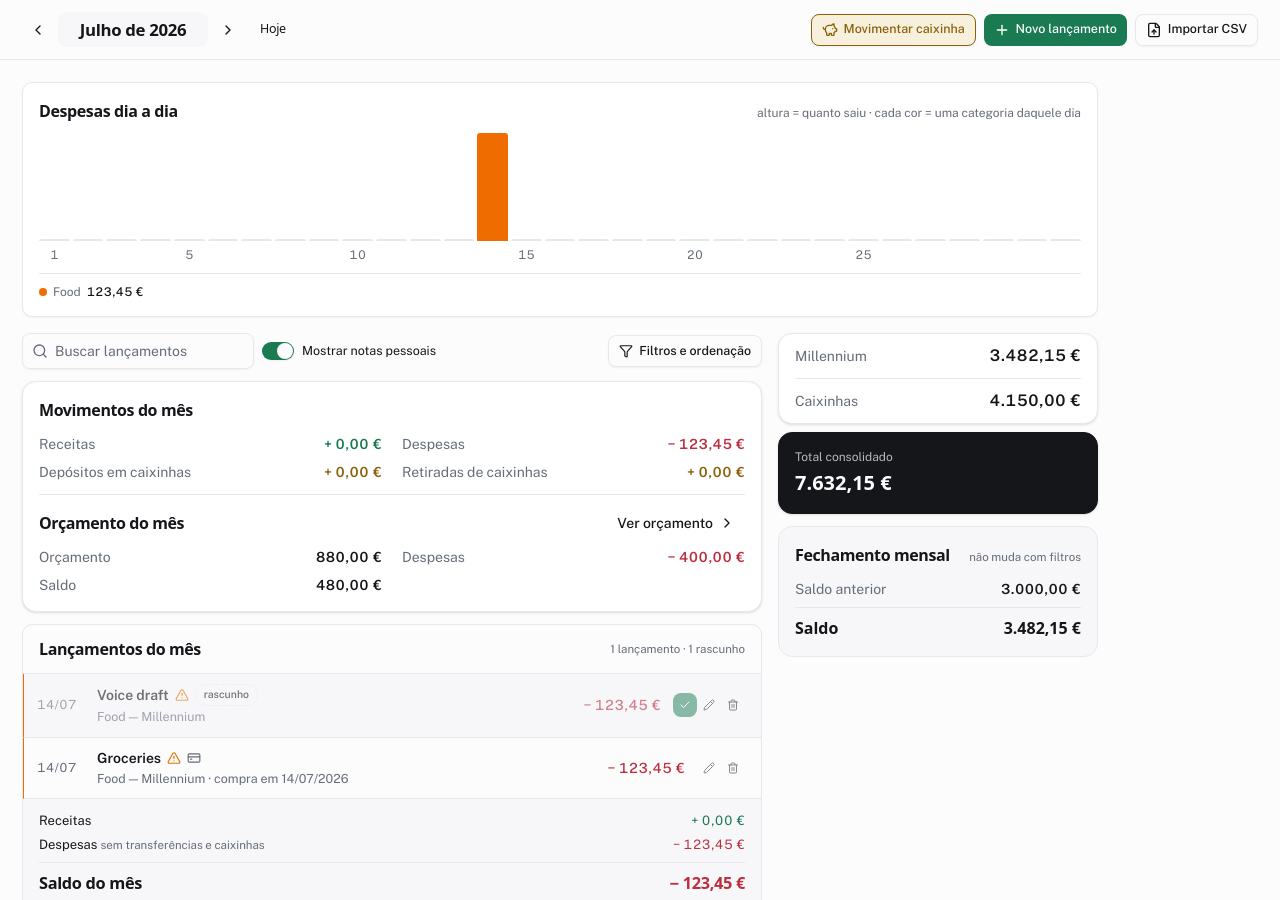
Test: MonthPage › confirms only draft rows, refreshes entries and balances, and removes the draft
Expected: the number of buttons named "Editar" is 2, x1=697 y1=693 x2=721 y2=717; x1=697 y1=756 x2=721 y2=780
Step 1. Click the button named "Confirmar lançamento" → (685, 705), box x1=673 y1=693 x2=697 y2=717
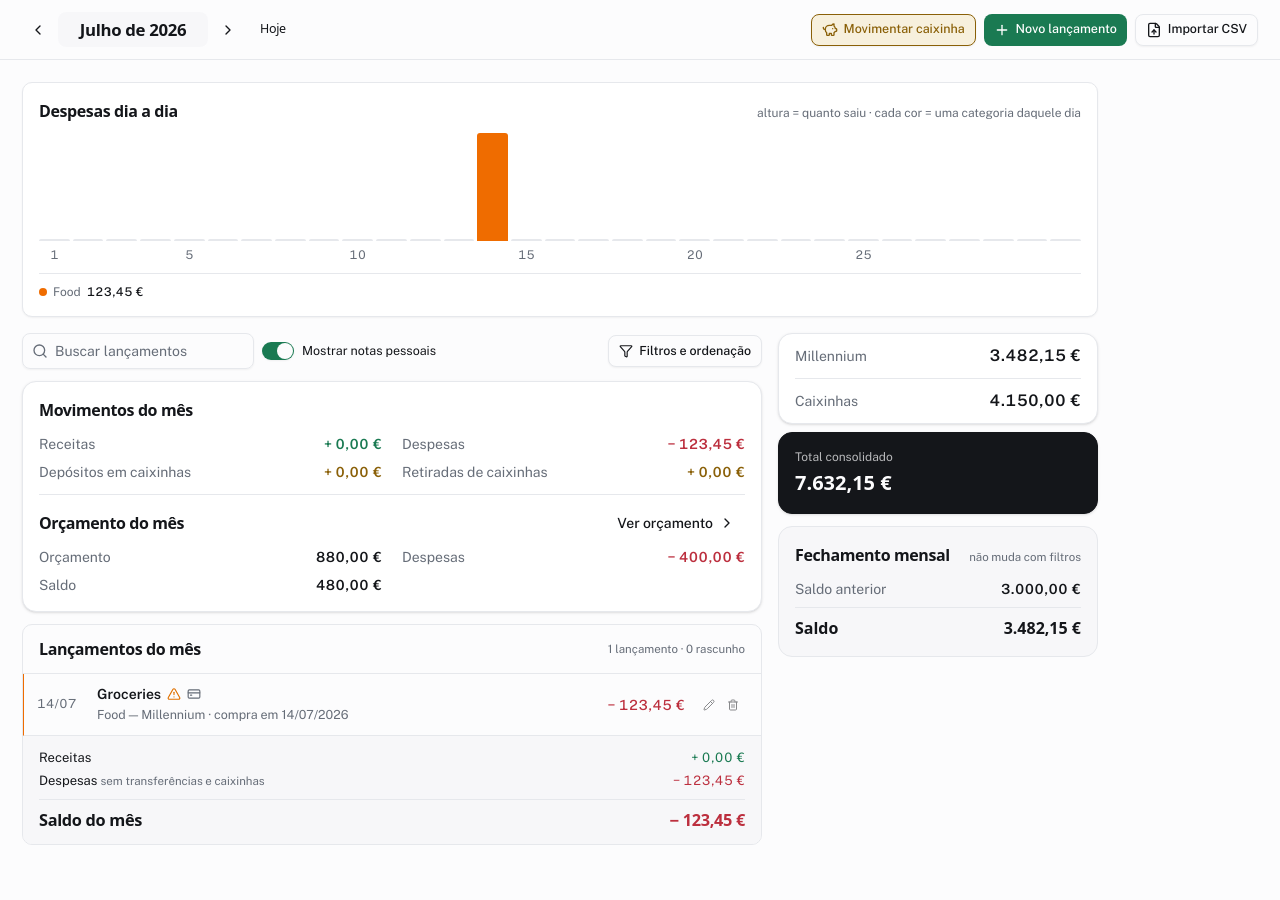
Expected: the text "Voice draft" is gone
